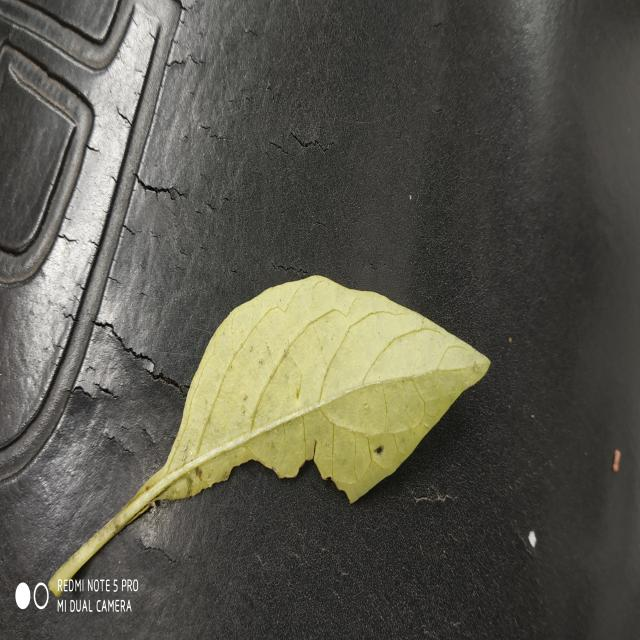ganike: (49, 276, 490, 596)
